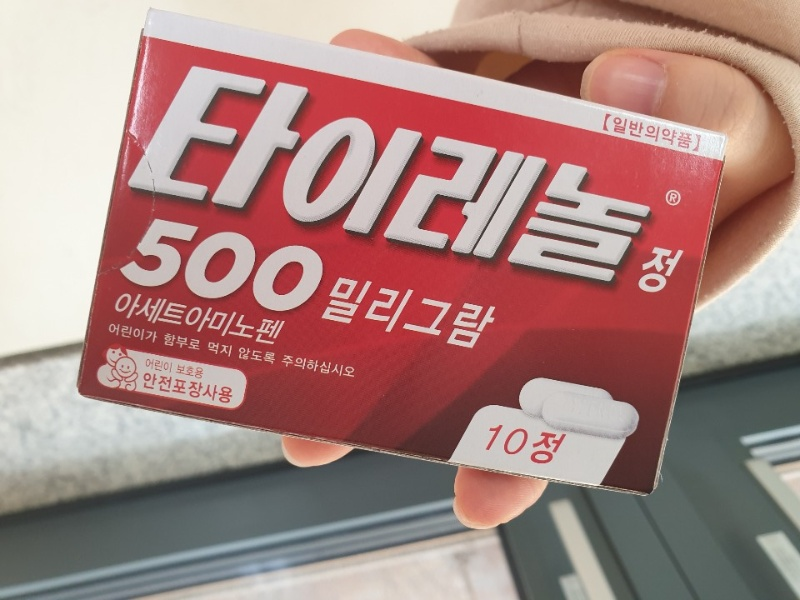tylenol: (77, 9, 727, 497)
